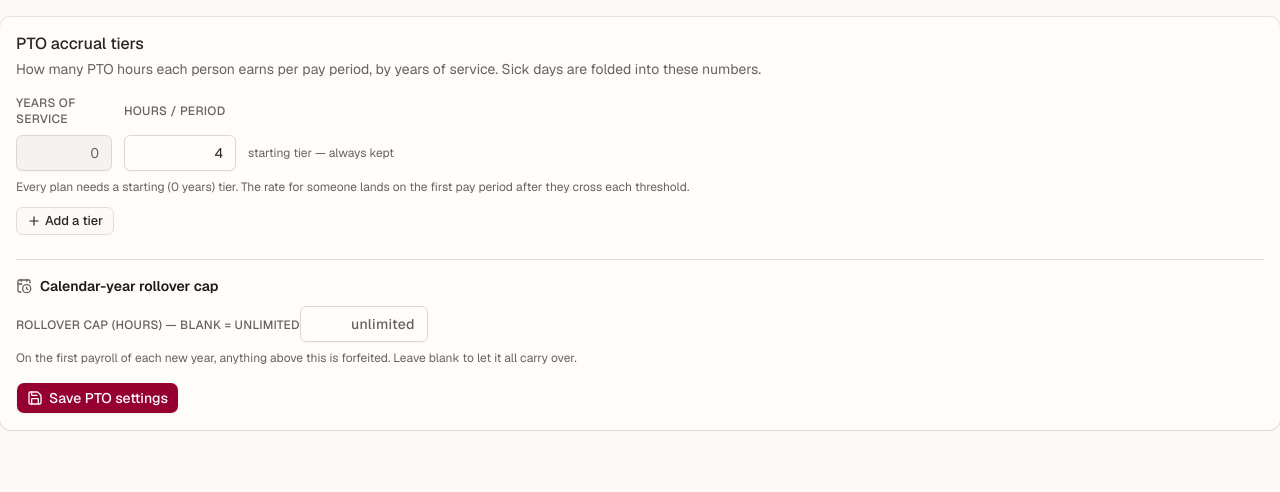
PtoTiersCard › blocks the save when two tiers share the same minimum years
Click the button "Add a tier" at (65, 221), box x1=16 y1=207 x2=114 y2=235
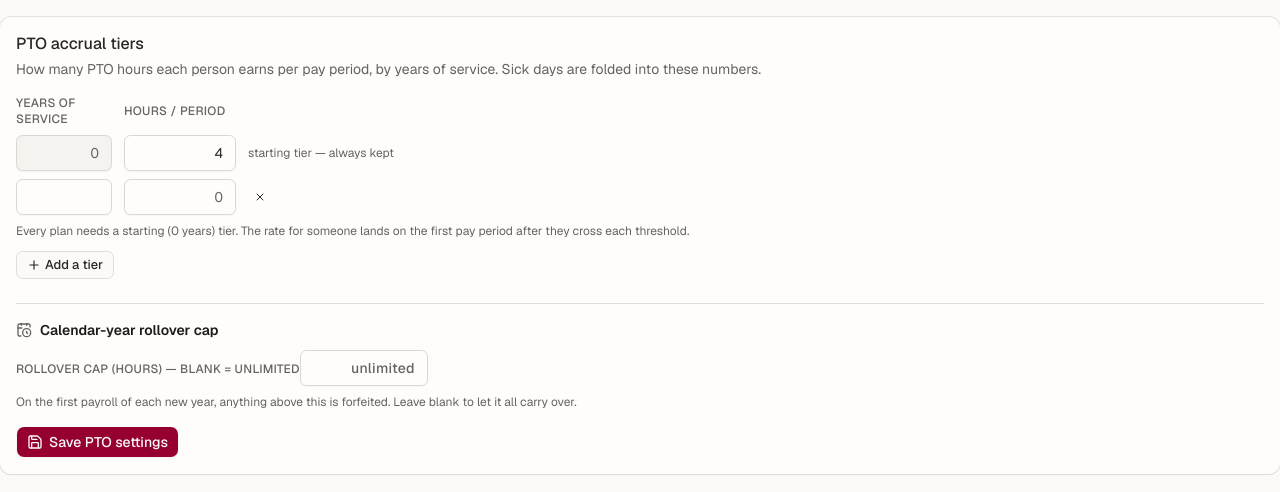
Type "5" into the field named "minimum years for the new-year tier" at (64, 197), box x1=16 y1=179 x2=112 y2=215
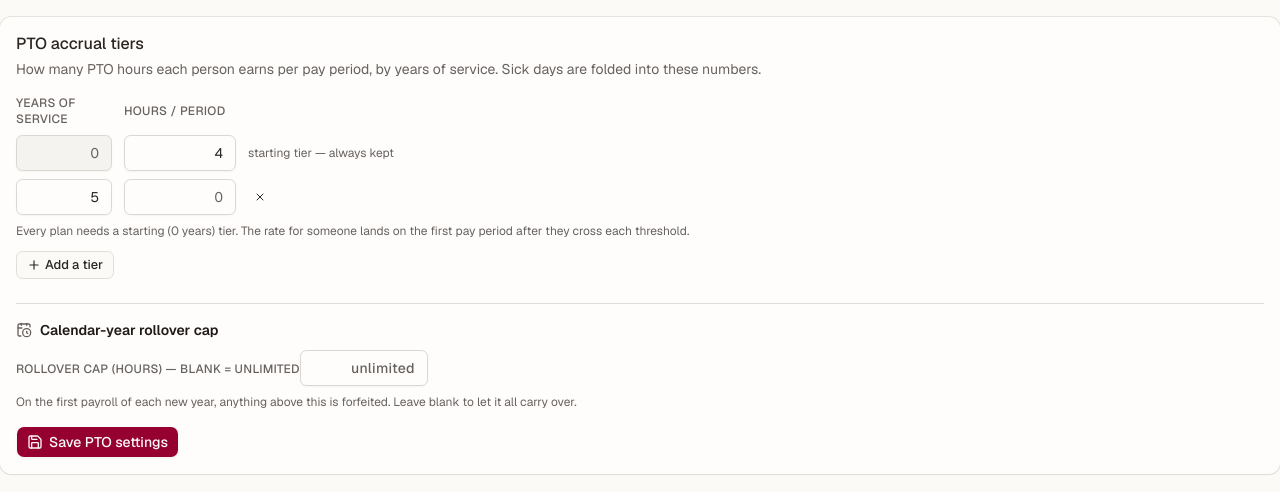
Type "5" into the field named "hours per period for the 5-year tier" at (180, 197), box x1=124 y1=179 x2=236 y2=215
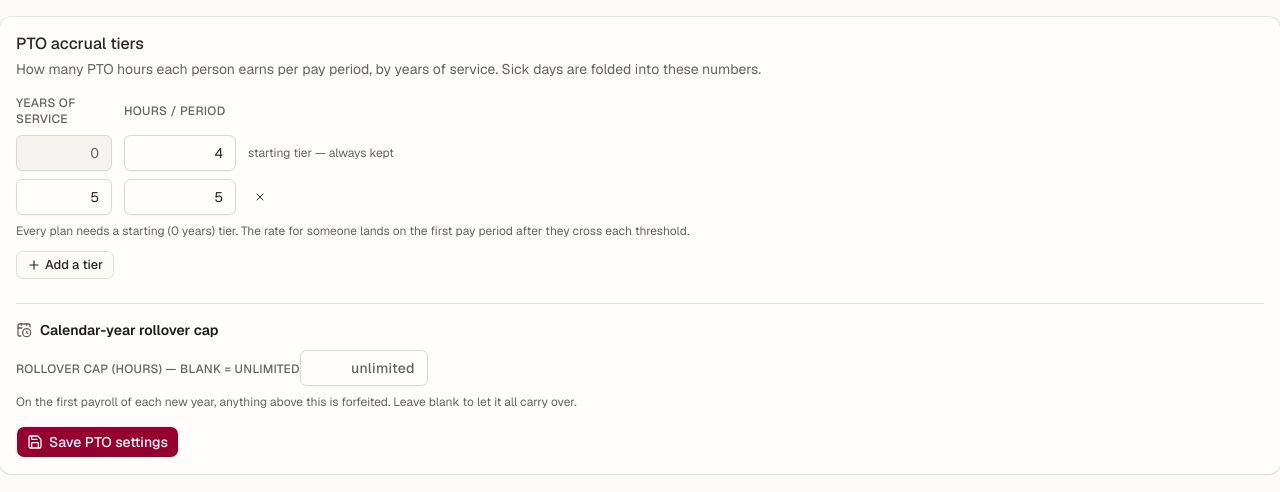
Replace the text in the field named "minimum years for the 5-year tier" with "0" at (64, 197), box x1=16 y1=179 x2=112 y2=215
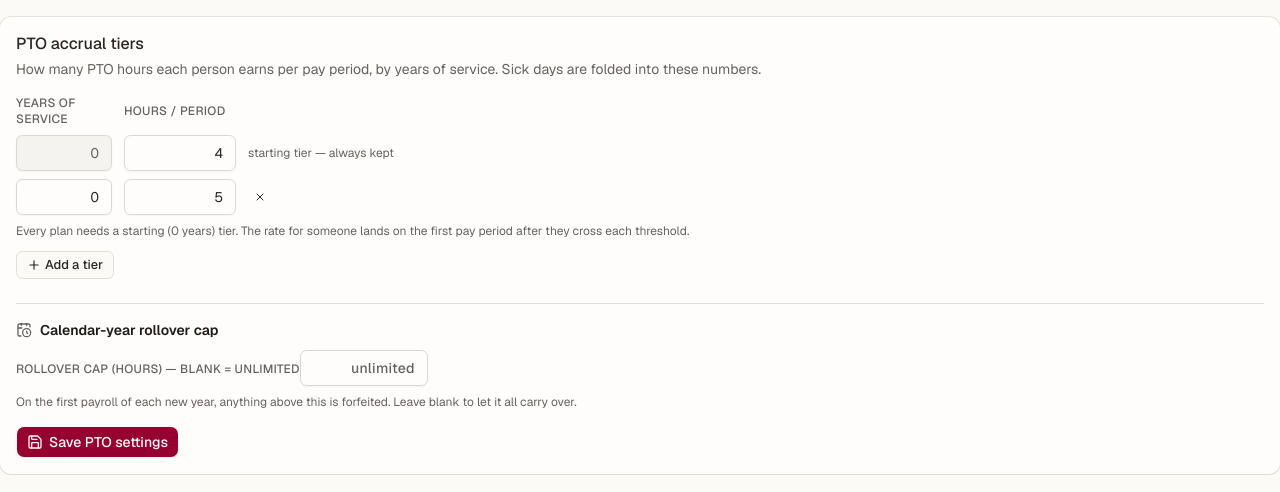
Click the button "Save PTO settings" at (98, 442), box x1=16 y1=426 x2=179 y2=458
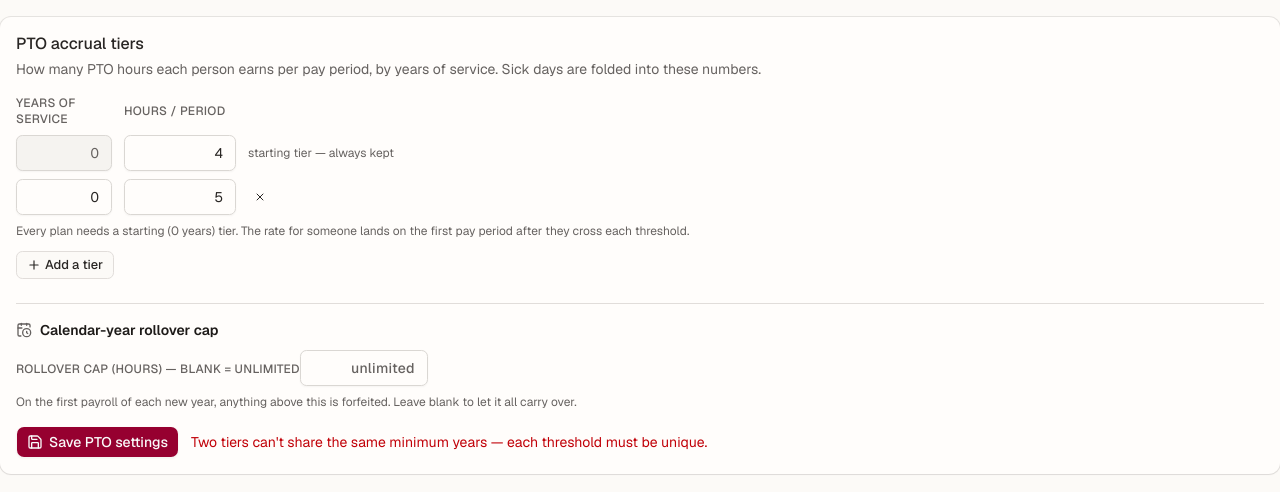
Expected: the text "each threshold must be unique" is shown, x1=191 y1=433 x2=707 y2=451
